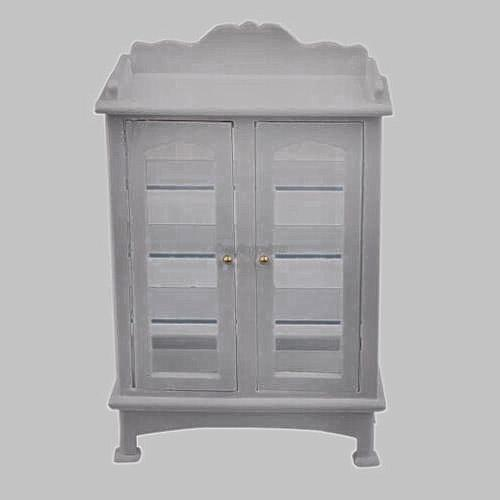cabinet: (100, 19, 389, 466)
